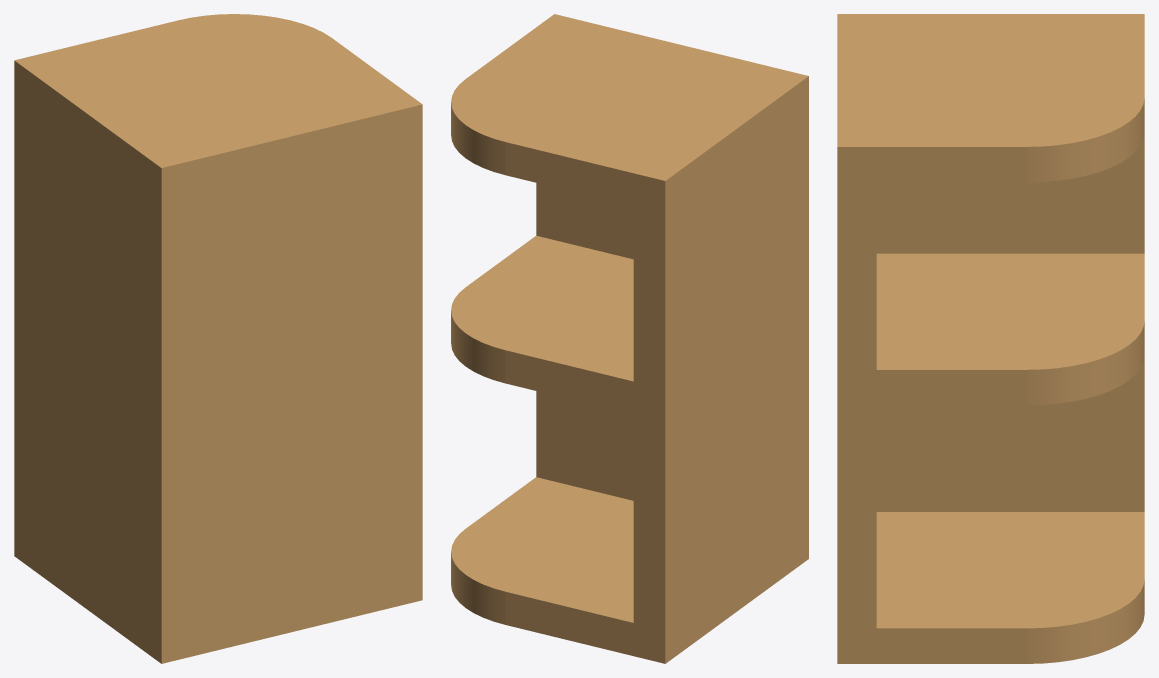
File: kitchenCabinetUpperCorner.glb
3 renders of one model, left to right at view 1: azimuth 30°, elevation 25°; view 2: azimuth 150°, elevation 25°; view 3: azimuth 270°, elevation 25°, orthographic. The views are drawn at different scales.
Size of the model in its own units: 2.15 by 3.9 by 2.1.
